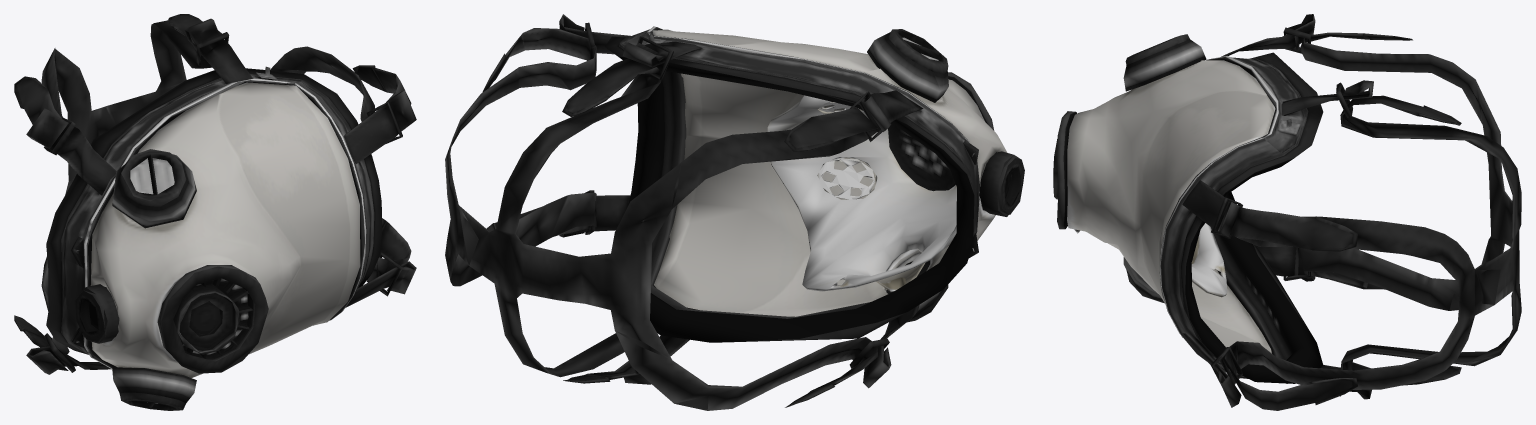
File: F_ChemicalMask.fbx
The picture shows the model from 3 angles, left to right: view 1: azimuth 30°, elevation 25°; view 2: azimuth 150°, elevation 25°; view 3: azimuth 270°, elevation 25°; orthographic projection. The views are drawn at different scales.
Visible parts, largest first — view 1: clearFaceMask; view 2: clearFaceMask; view 3: clearFaceMask.
Boxes of the visible parts, <box> form: clearFaceMask: <box>14,14,416,410</box>; clearFaceMask: <box>445,14,1024,410</box>; clearFaceMask: <box>1053,14,1521,410</box>.
Size of the model in its own units: 0.1711 by 0.129 by 0.1755.
